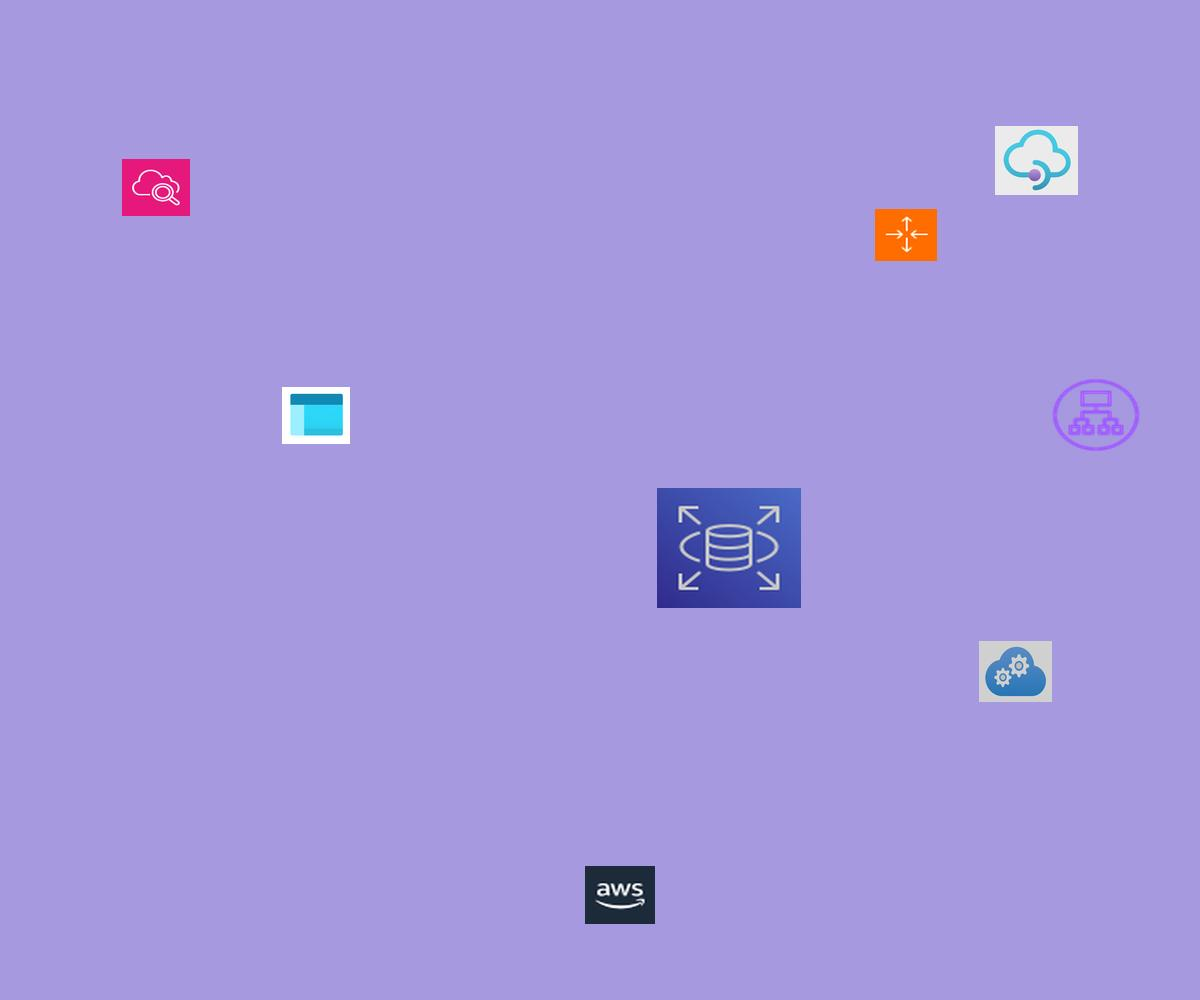AWS-Cloud-logo: (585, 866, 655, 924)
AWS-CloudWatch: (122, 159, 190, 216)
AWS-RDS: (657, 488, 801, 608)
AWS-Res_Elastic-Load-Balancing_Application-Load-Balancer: (1049, 376, 1143, 454)
AWS-Scaling-group: (875, 209, 937, 261)
Azure_api_gateway: (995, 126, 1078, 195)
Azure_cloud_services: (979, 641, 1052, 702)
Azure_management-portal: (282, 387, 350, 444)
